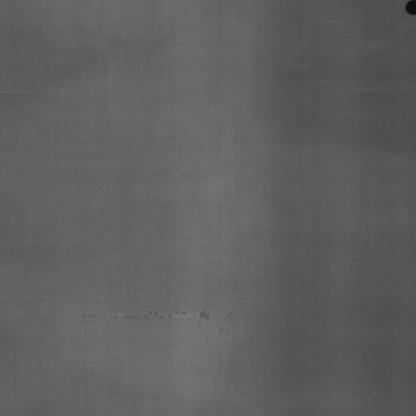punching_hole: (405, 0, 416, 17)
water_spot: (83, 304, 221, 326)
